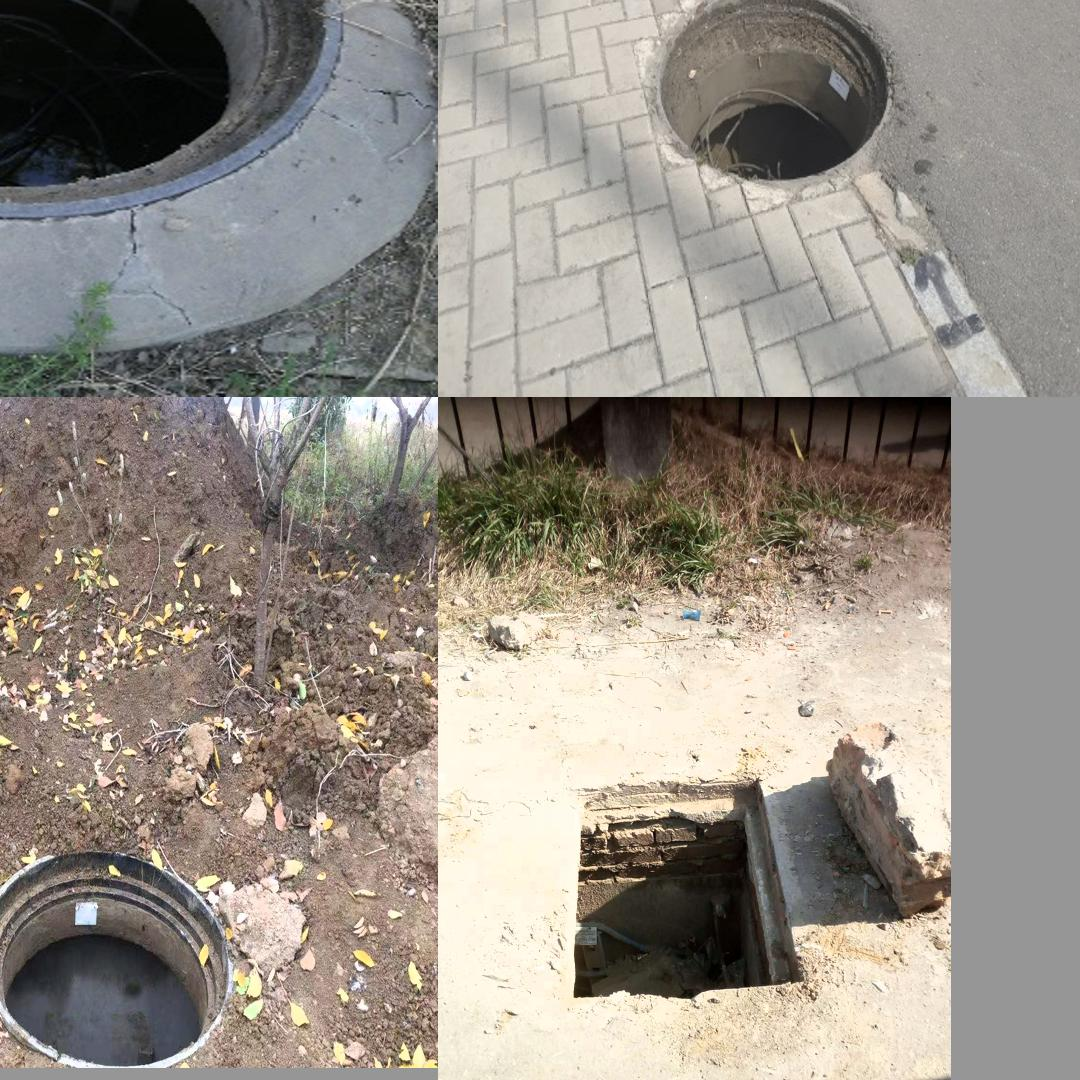lose: (0, 0, 343, 219), (0, 824, 280, 1066), (560, 771, 819, 1024), (653, 0, 893, 184)
